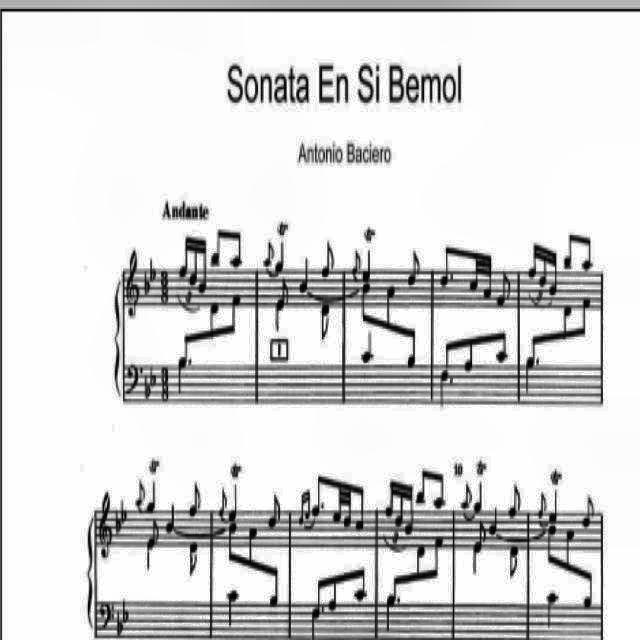Bemol: (143, 268, 149, 296), (151, 257, 157, 283), (143, 375, 149, 399), (117, 612, 123, 636), (150, 364, 156, 386), (123, 600, 129, 622), (121, 502, 127, 522), (116, 512, 120, 532)
Eighth-note: (210, 226, 224, 268), (416, 464, 429, 506), (246, 526, 258, 568), (508, 482, 522, 518), (583, 567, 595, 609), (354, 565, 366, 605), (582, 494, 596, 528), (414, 545, 426, 583), (208, 303, 220, 341), (434, 469, 446, 506), (564, 528, 574, 572), (344, 478, 352, 528), (227, 523, 237, 563), (361, 283, 371, 323), (231, 296, 241, 336), (188, 544, 200, 576), (474, 522, 486, 554), (496, 330, 508, 362), (276, 280, 288, 312), (262, 236, 274, 268), (582, 298, 592, 336), (408, 327, 417, 368), (386, 286, 394, 332), (231, 232, 241, 268), (312, 574, 320, 618), (464, 336, 474, 370), (270, 564, 278, 606), (536, 490, 548, 518), (563, 306, 573, 339), (436, 538, 444, 578), (441, 340, 449, 380), (329, 572, 337, 610), (548, 525, 556, 563), (388, 570, 396, 606), (509, 546, 518, 578), (322, 304, 330, 338), (527, 337, 535, 367)
Quarter-note: (228, 589, 240, 627), (546, 591, 558, 629), (230, 484, 238, 520), (166, 503, 174, 533), (489, 507, 497, 535)
Sixteenth-note: (200, 235, 208, 292), (406, 478, 414, 534), (190, 235, 198, 285), (396, 478, 404, 526), (180, 233, 188, 277), (386, 477, 394, 517), (148, 480, 156, 512)
